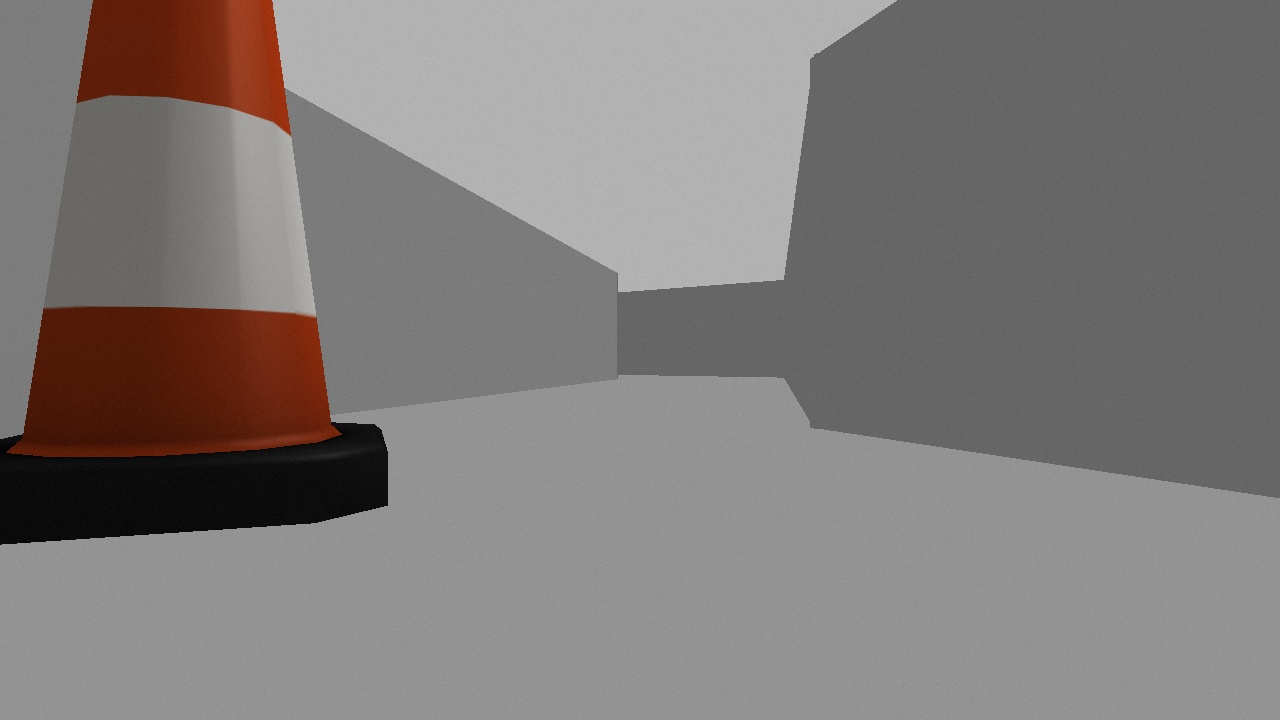barricade: (1, 1, 397, 567)
